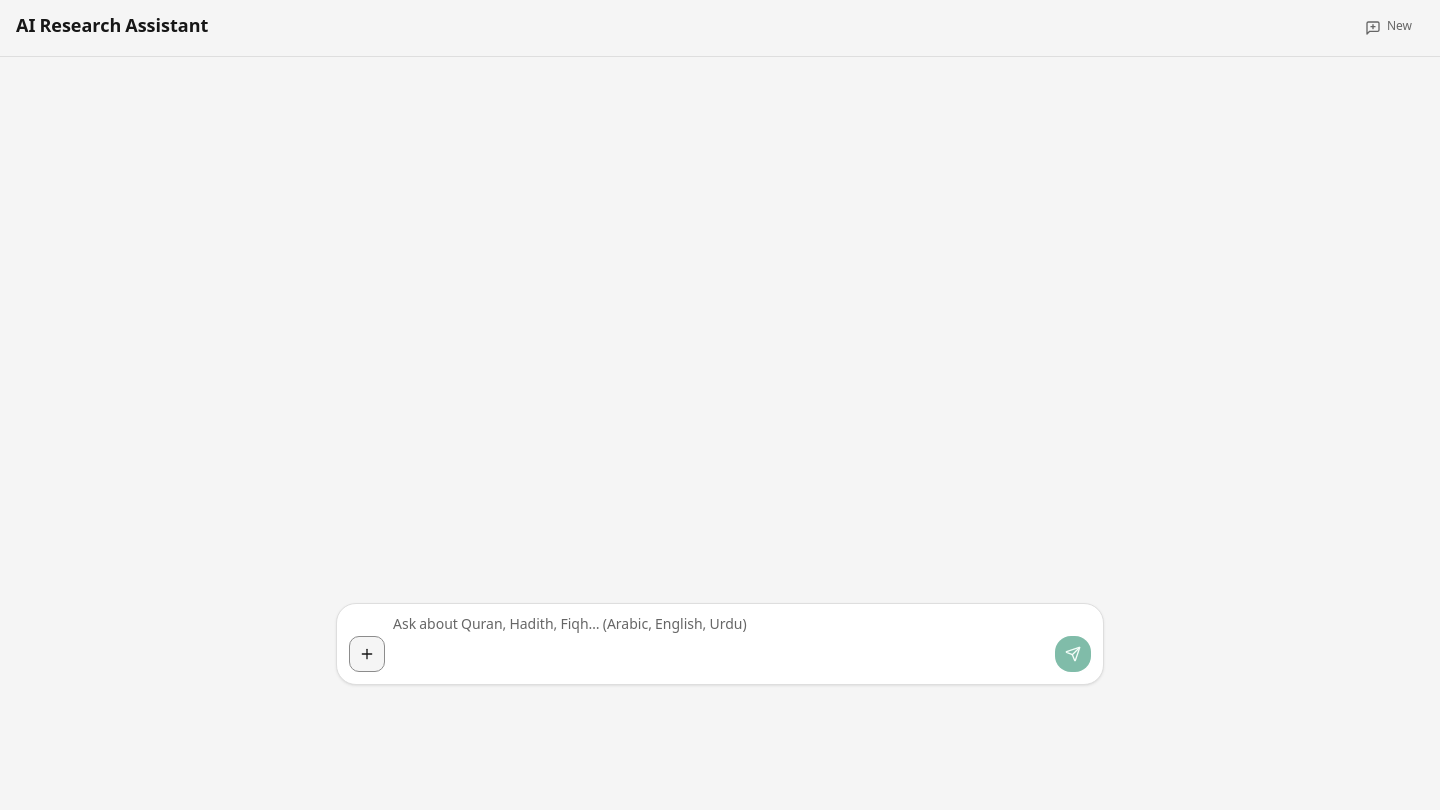
Test: ChatDisplay — baseline (SPEC M10 §1.2 pre-merge snapshot) › closes the hub and opens the scholarly-prompts modal from its row
Click the button named "Sources, assist modes & scholarly prompts".
click(367, 654)  # box [349,636,385,672]
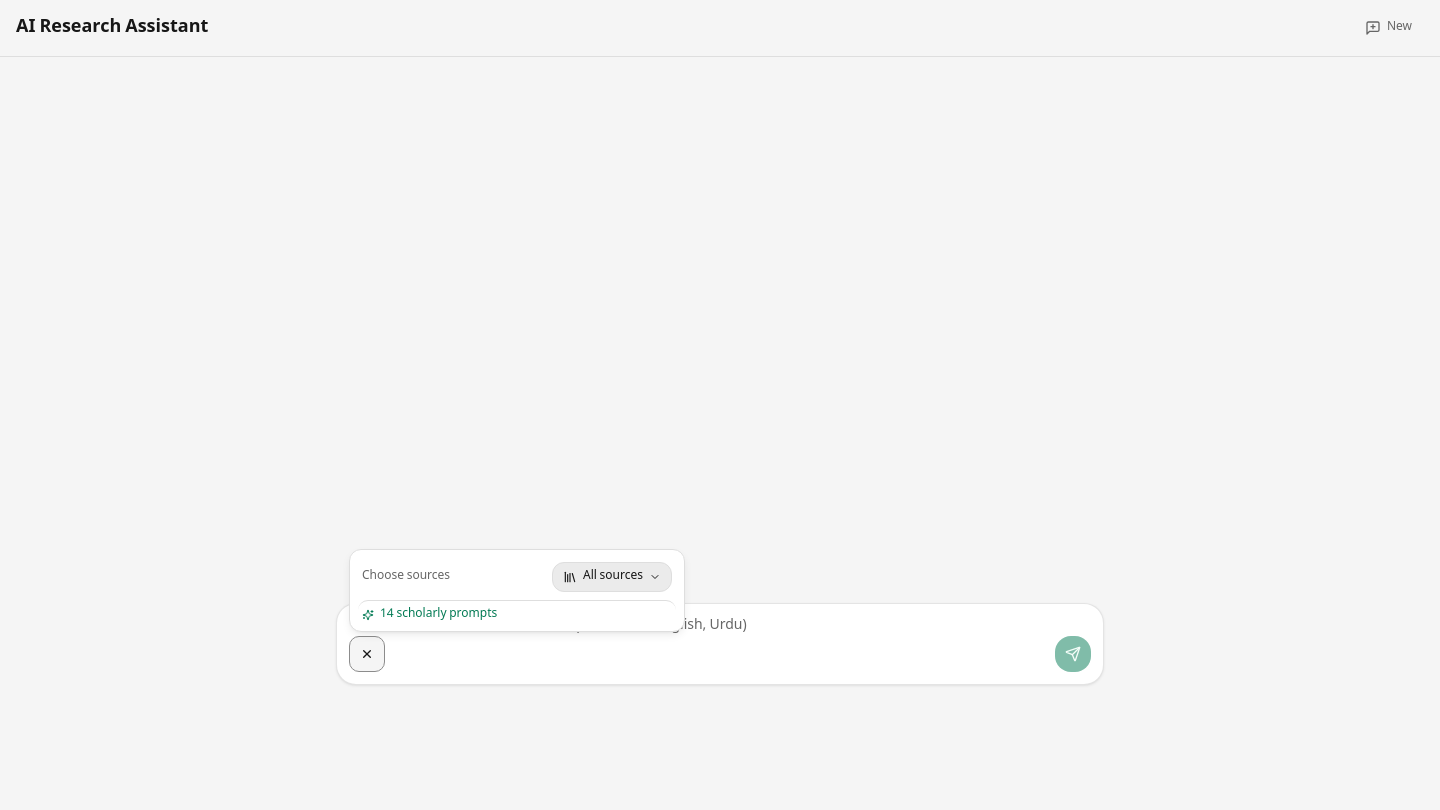
Click the button "14 scholarly prompts".
click(439, 614)  # box [358,600,676,623]
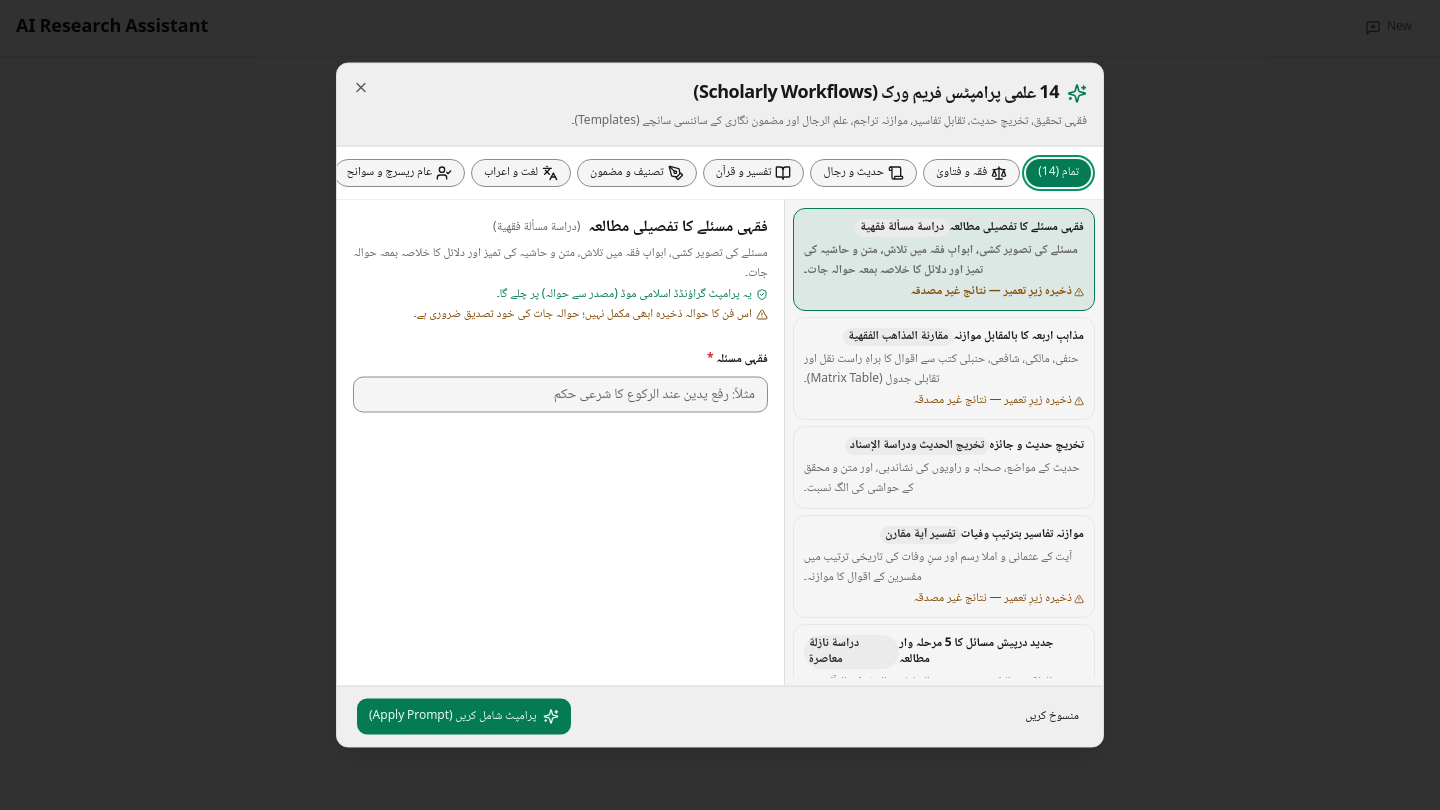
Expected: the text "Choose sources" is gone
